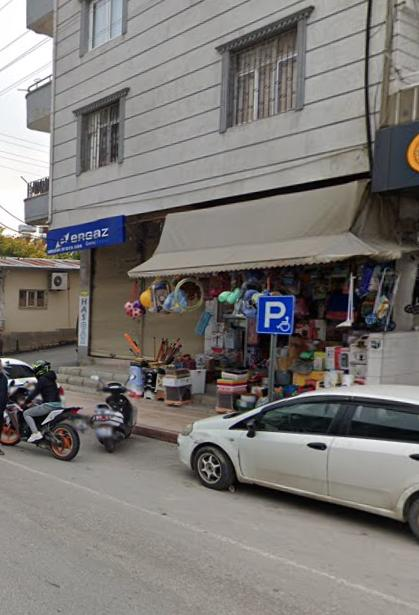disabledpark: (258, 293, 294, 334)
